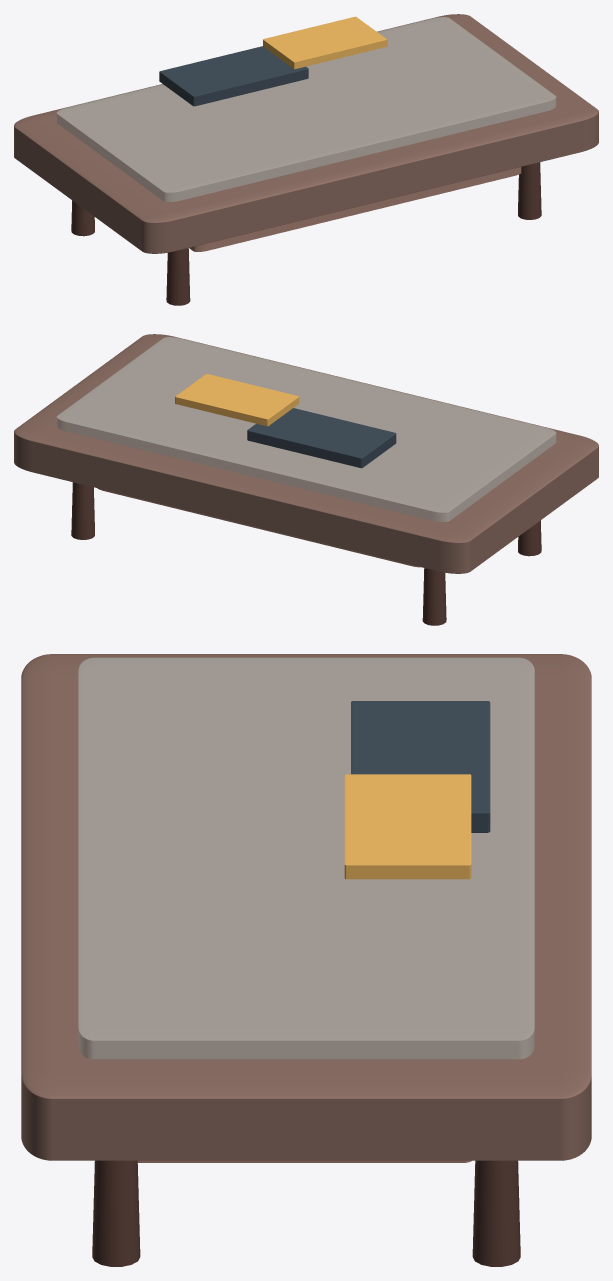
File: coffee-table.glb
3 views of the same model, one above another, from view 1: azimuth 30°, elevation 25°; view 2: azimuth 150°, elevation 25°; view 3: azimuth 270°, elevation 25° (orthographic). The views are drawn at different scales.
Parts seen in each view (by area): view 1: rounded walnut table frame, slightly transparent beveled glass insert, blue book, yellow magazine, slim cylindrical table leg (×3), lower shelf; view 2: rounded walnut table frame, slightly transparent beveled glass insert, blue book, yellow magazine, slim cylindrical table leg (×3), lower shelf; view 3: rounded walnut table frame, slightly transparent beveled glass insert, yellow magazine, blue book, slim cylindrical table leg (×2), lower shelf.
Part boxes in pixels (x1=…): rounded walnut table frame: x1=14, y1=14, x2=598, y2=253; slightly transparent beveled glass insert: x1=56, y1=17, x2=556, y2=201; blue book: x1=159, y1=46, x2=308, y2=106; yellow magazine: x1=263, y1=16, x2=387, y2=69; slim cylindrical table leg (×3): x1=71, y1=162, x2=541, y2=305; lower shelf: x1=189, y1=167, x2=521, y2=251; rounded walnut table frame: x1=14, y1=334, x2=598, y2=573; slightly transparent beveled glass insert: x1=56, y1=337, x2=556, y2=521; blue book: x1=247, y1=408, x2=396, y2=468; yellow magazine: x1=175, y1=373, x2=299, y2=426; slim cylindrical table leg (×3): x1=71, y1=482, x2=541, y2=625; lower shelf: x1=97, y1=488, x2=420, y2=567; rounded walnut table frame: x1=21, y1=654, x2=591, y2=1160; slightly transparent beveled glass insert: x1=78, y1=657, x2=534, y2=1059; yellow magazine: x1=344, y1=774, x2=471, y2=879; blue book: x1=351, y1=701, x2=490, y2=832; slim cylindrical table leg (×2): x1=92, y1=1160, x2=520, y2=1266; lower shelf: x1=137, y1=1160, x2=471, y2=1162.
Bounding box in the file's own units: 1.66 × 0.5375 × 0.9.
